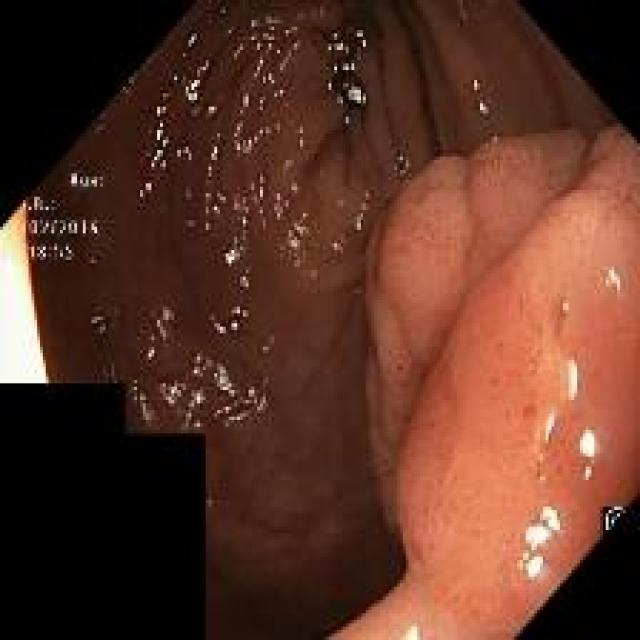Polyps: (366, 128, 640, 638)
